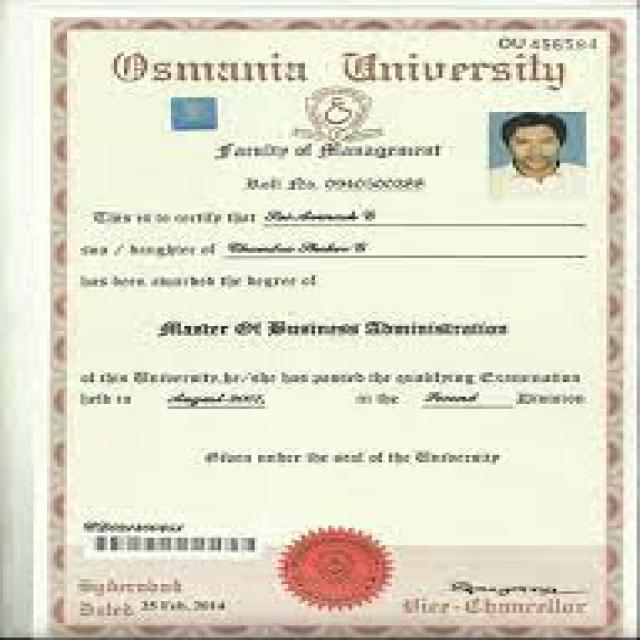degree: (154, 316, 542, 348)
signature: (443, 581, 607, 607)
stamp: (277, 520, 402, 622)
